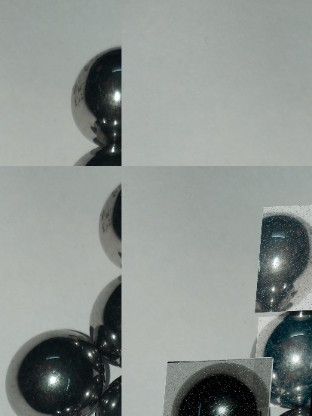ironball: (2, 321, 109, 414), (165, 359, 277, 415), (258, 207, 312, 315), (256, 317, 312, 410), (69, 44, 121, 143), (84, 270, 119, 372), (96, 179, 121, 269), (77, 140, 124, 167)
